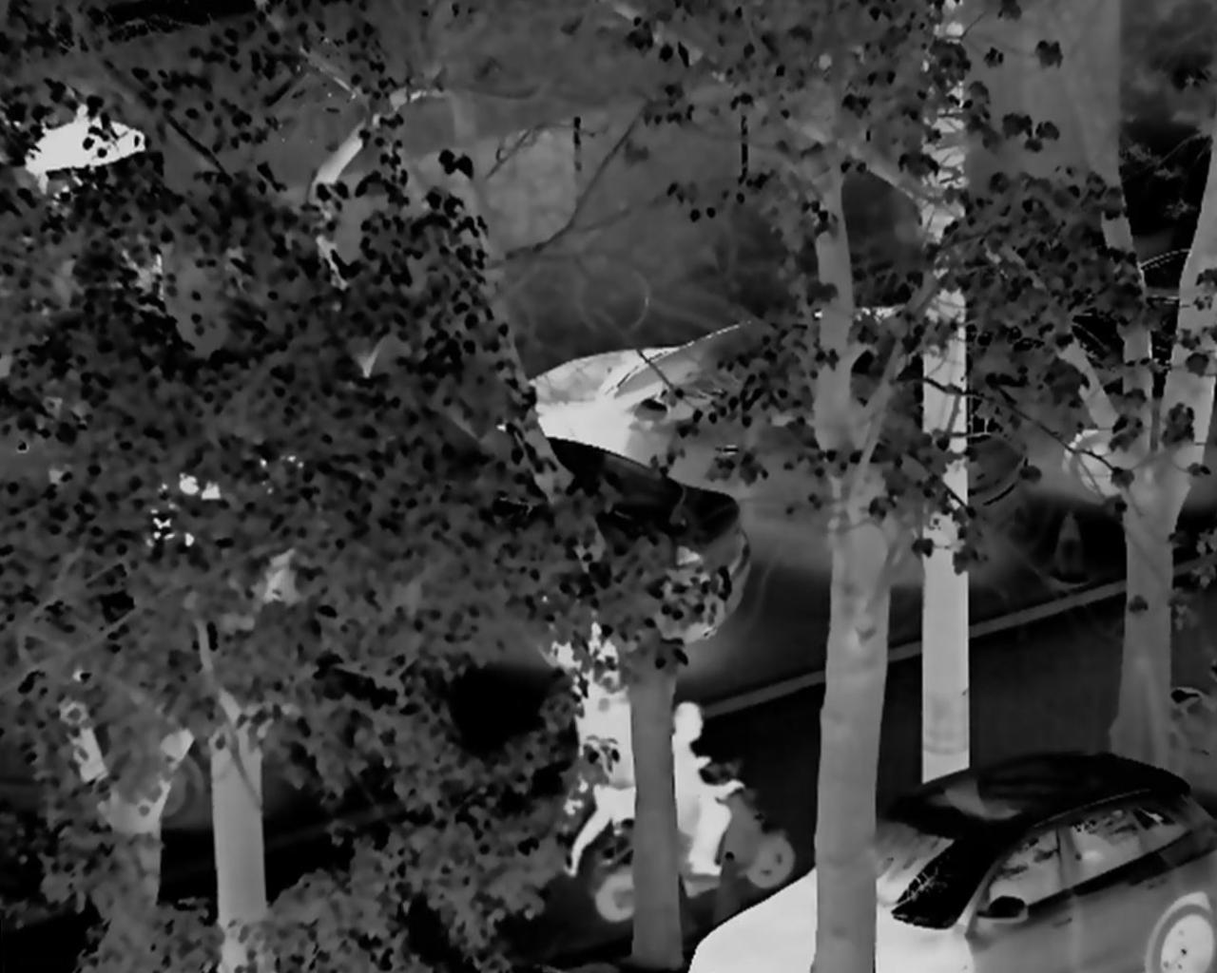person: (657, 683, 739, 887), (563, 639, 637, 864)
